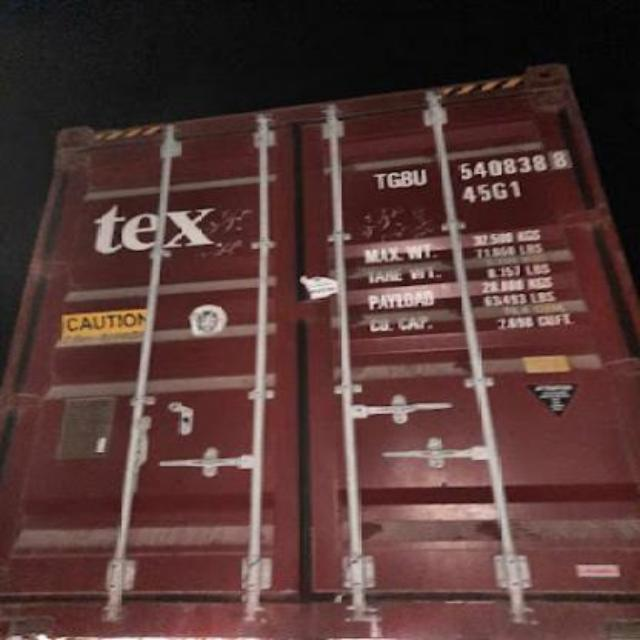0: (488, 155, 502, 181)
3: (516, 151, 532, 175)
4: (474, 156, 488, 180)
5: (452, 157, 474, 183)
8: (548, 145, 570, 169), (502, 147, 518, 177), (532, 150, 548, 174)
B: (400, 168, 412, 190)
G: (386, 168, 399, 192)
T: (370, 170, 388, 190)
U: (412, 162, 432, 190)
